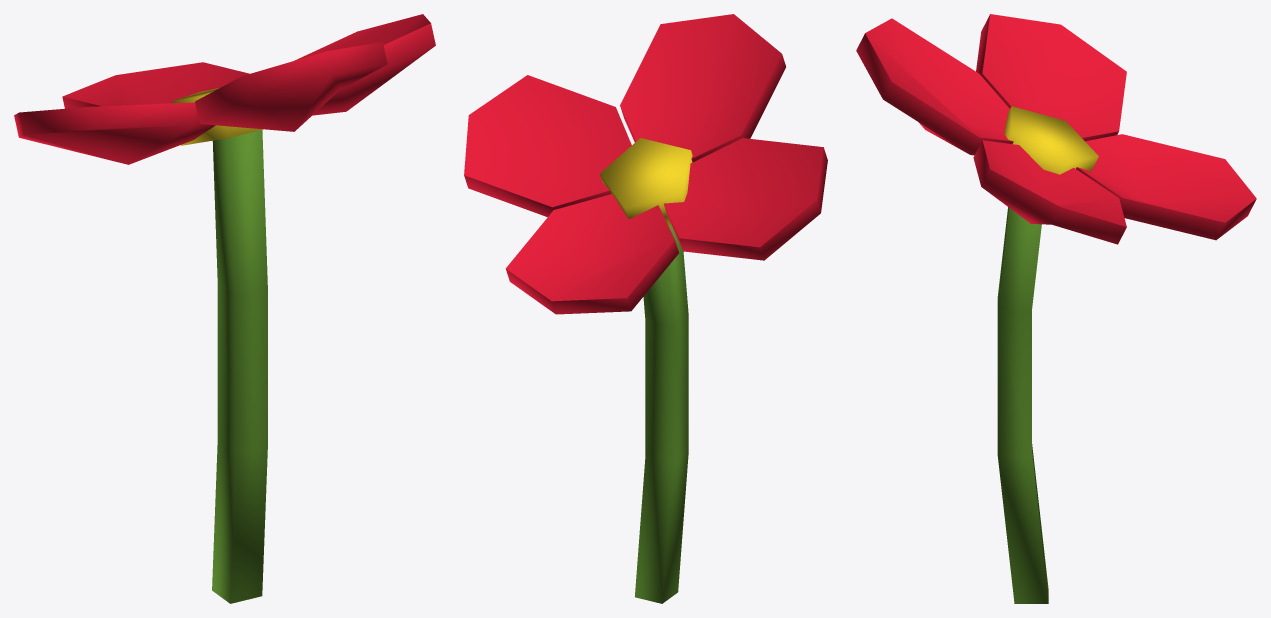
Rendered from cicek2.fbx.
3 views of the same model, side by side, from view 1: azimuth 30°, elevation 25°; view 2: azimuth 150°, elevation 25°; view 3: azimuth 270°, elevation 25° (orthographic). The views are drawn at different scales.
Visible parts, largest first — view 1: Çiçek2; view 2: Çiçek2; view 3: Çiçek2.
Part boxes in pixels (x1,y1,x2,y2): Çiçek2: (14, 14, 435, 603); Çiçek2: (464, 14, 827, 603); Çiçek2: (856, 14, 1256, 603).
Bounding box in the file's own units: 25.33 × 36.44 × 23.48.
